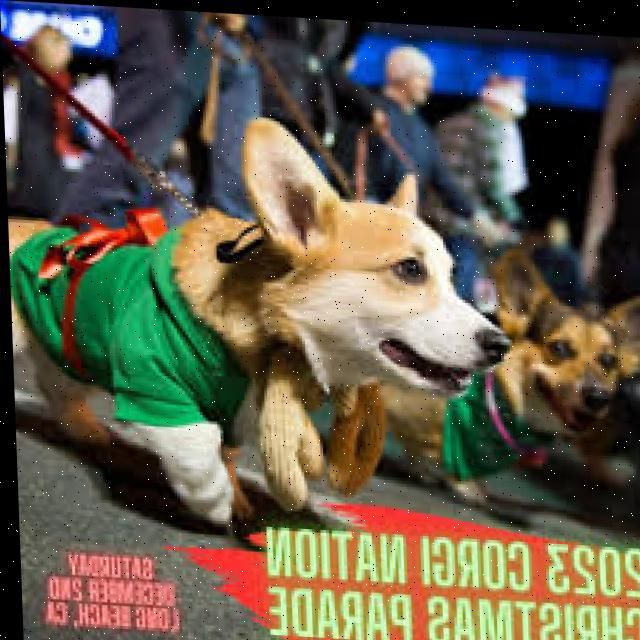CORGI: (3, 108, 495, 506)
